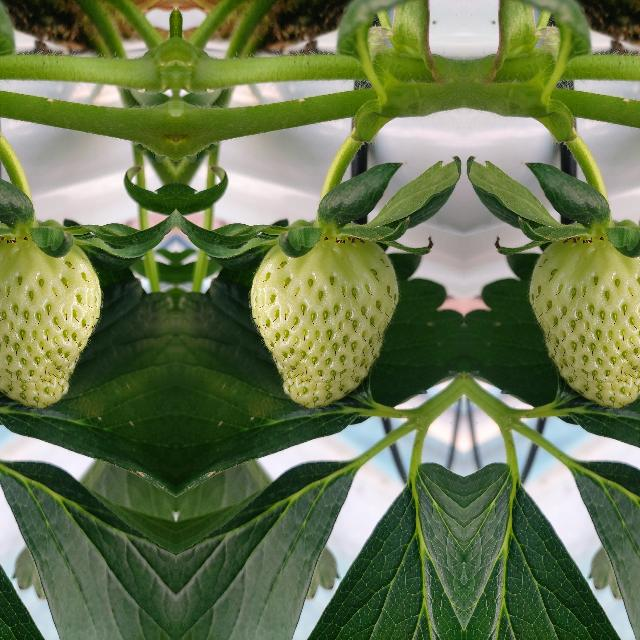Health_25: (247, 235, 398, 409), (527, 235, 640, 409), (0, 235, 102, 409)
